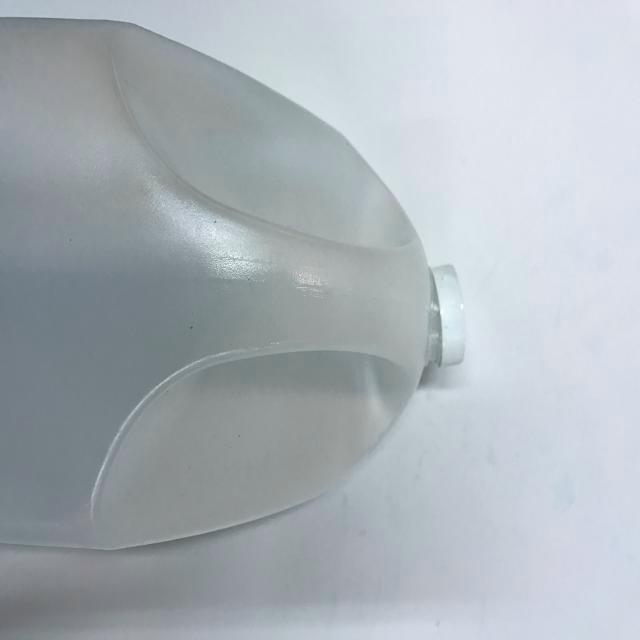plastic: (0, 0, 484, 640)
